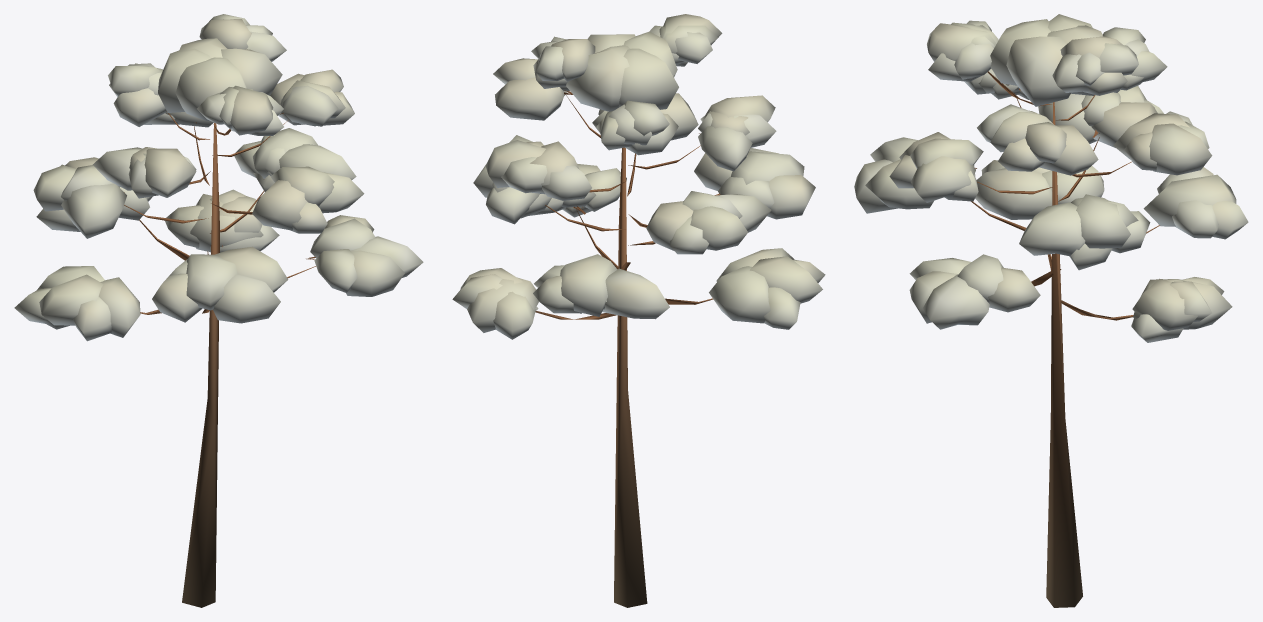
The picture shows the model from 3 angles, left to right: view 1: azimuth 30°, elevation 25°; view 2: azimuth 150°, elevation 25°; view 3: azimuth 270°, elevation 25°; orthographic projection. The views are drawn at different scales.
Visible parts, largest first — view 1: crown, trunk; view 2: crown, trunk; view 3: crown, trunk.
Part boxes in pixels (bbox=[...]): crown: bbox=[14, 14, 423, 341]; trunk: bbox=[124, 111, 315, 607]; crown: bbox=[452, 14, 825, 339]; trunk: bbox=[535, 90, 720, 607]; crown: bbox=[854, 14, 1248, 342]; trunk: bbox=[971, 71, 1159, 607].
Size of the model in its own units: 10.43 by 16.58 by 10.09.
